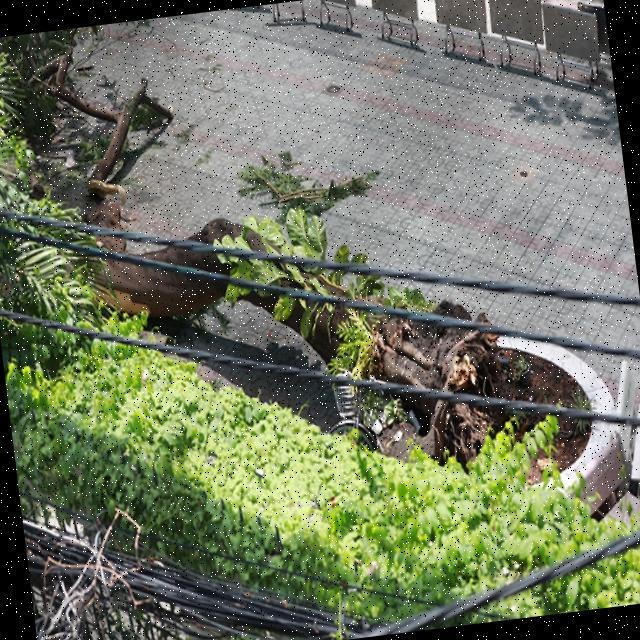fallen_object: (41, 84, 566, 509)
